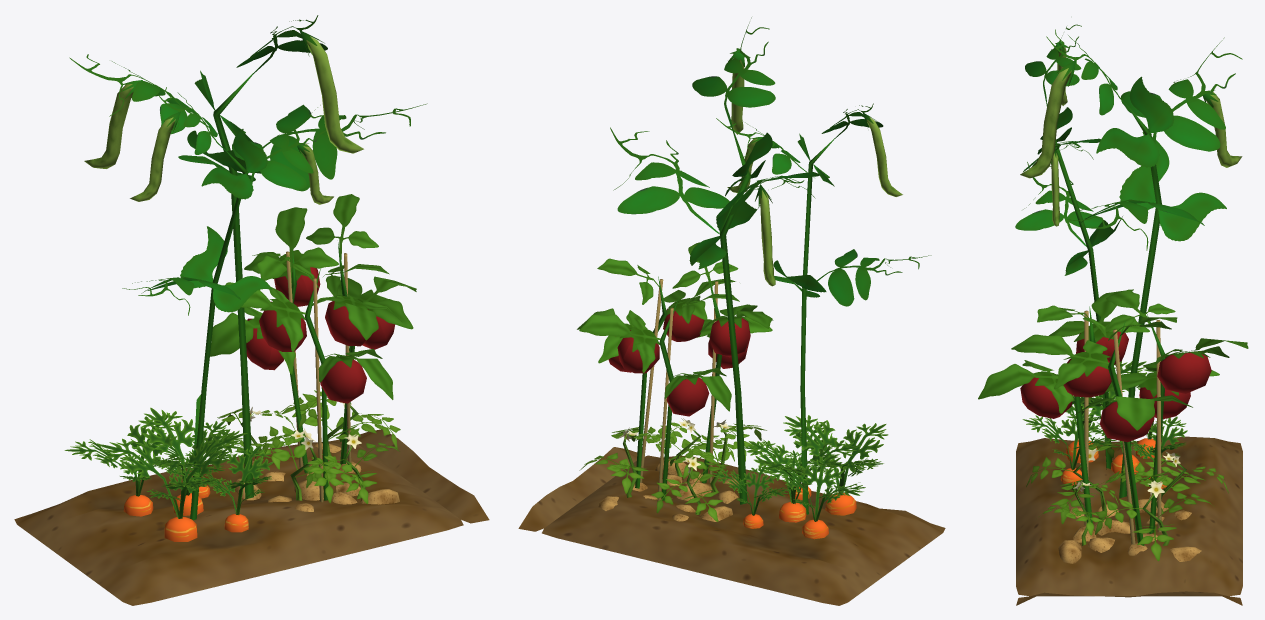
The model's file is plants.glb.
The picture shows the model from 3 angles, left to right: view 1: azimuth 30°, elevation 25°; view 2: azimuth 150°, elevation 25°; view 3: azimuth 270°, elevation 25°; orthographic projection. The views are drawn at different scales.
Parts seen in each view (by area): view 1: Bed, Peas_Plants_0, Tomato_Plants_0, Carrot_Plants_0, Potato_Plants_0; view 2: Bed, Peas_Plants_0, Tomato_Plants_0, Carrot_Plants_0, Potato_Plants_0; view 3: Bed, Peas_Plants_0, Tomato_Plants_0, Potato_Plants_0, Carrot_Plants_0.
Part boxes in pixels (bbox=[...]): Bed: bbox=[14, 429, 489, 605]; Peas_Plants_0: bbox=[69, 15, 427, 520]; Tomato_Plants_0: bbox=[210, 194, 416, 502]; Carrot_Plants_0: bbox=[64, 407, 273, 541]; Potato_Plants_0: bbox=[204, 390, 400, 511]; Bed: bbox=[518, 447, 945, 605]; Peas_Plants_0: bbox=[610, 17, 931, 514]; Tomato_Plants_0: bbox=[577, 242, 773, 501]; Carrot_Plants_0: bbox=[710, 415, 888, 539]; Potato_Plants_0: bbox=[579, 418, 766, 521]; Bed: bbox=[1016, 436, 1242, 605]; Peas_Plants_0: bbox=[1015, 24, 1242, 498]; Tomato_Plants_0: bbox=[978, 289, 1248, 545]; Potato_Plants_0: bbox=[1026, 443, 1228, 563]; Carrot_Plants_0: bbox=[1022, 361, 1187, 488].
Size of the model in its own units: 0.6936 by 0.9834 by 0.4929.
Materials: 2 (2 with a texture image).
